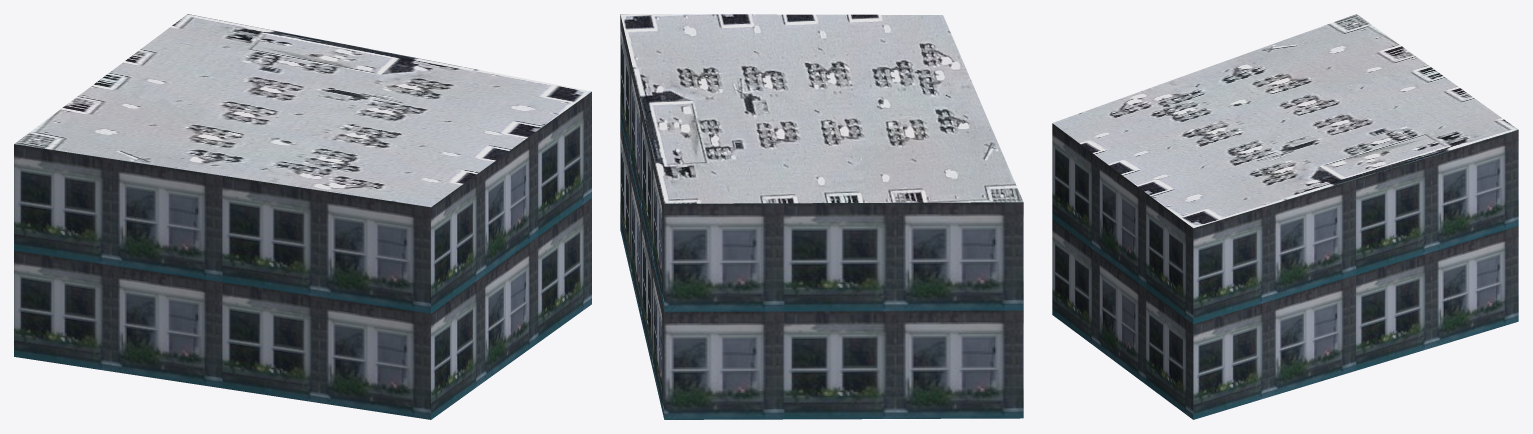
Rendered from ResTex__1543.fbx.
3 views of the same model, side by side, from view 1: azimuth 30°, elevation 25°; view 2: azimuth 150°, elevation 25°; view 3: azimuth 270°, elevation 25° (orthographic). The views are drawn at different scales.
Visible parts, largest first — view 1: CityEngineMaterial_11_m, CityEngineMaterial_8_m; view 2: CityEngineMaterial_11_m, CityEngineMaterial_8_m; view 3: CityEngineMaterial_11_m, CityEngineMaterial_8_m.
Boxes of the visible parts, x1,y1,x2,y2 form: CityEngineMaterial_11_m: [14, 92, 591, 419]; CityEngineMaterial_8_m: [14, 14, 591, 207]; CityEngineMaterial_11_m: [620, 14, 1023, 419]; CityEngineMaterial_8_m: [620, 14, 1023, 203]; CityEngineMaterial_11_m: [1052, 123, 1518, 419]; CityEngineMaterial_8_m: [1052, 14, 1518, 228].
Size of the model in its own units: 14.38 by 6 by 13.24.
Materials: 2 (2 with a texture image).
